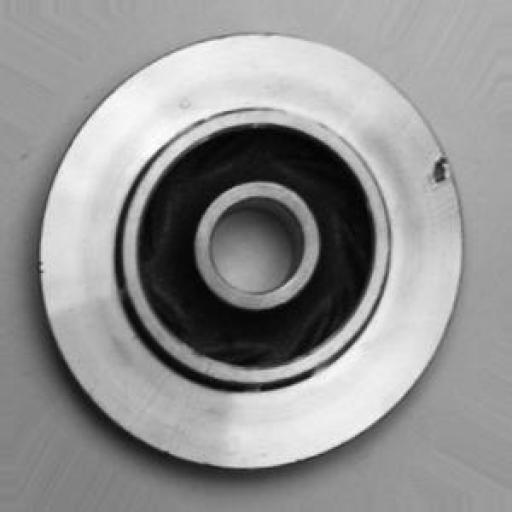defect: (390, 109, 484, 227)
